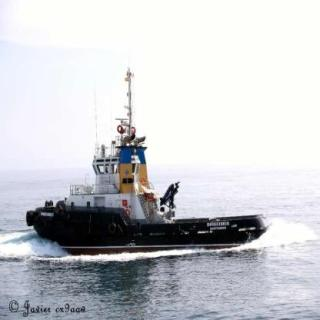Tug Boat: (28, 112, 270, 246)
